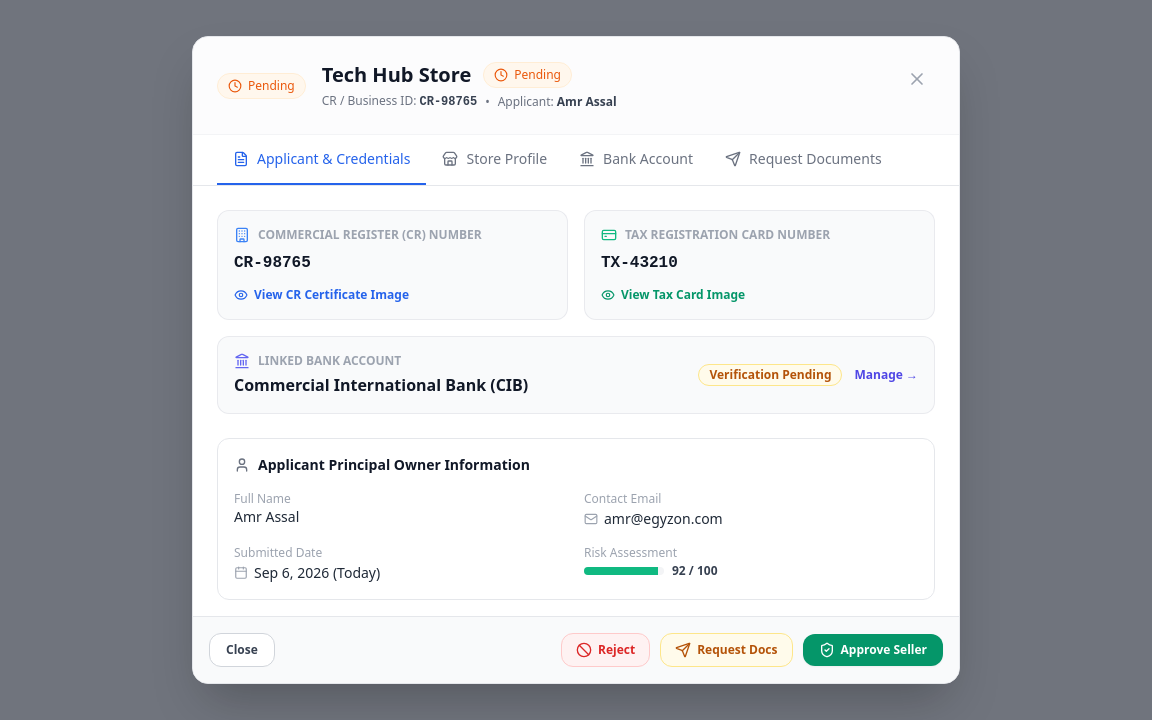
Test: SellerViewModel Component - Bank Account Integration › renders Bank Account tab and displays banking credentials
Check: the text "Linked Bank Account" is shown, box 234,352 -> 401,369
Check: the text "Commercial International Bank (CIB)" is shown, box 234,373 -> 528,397
// Switch to Bank Account tab
Click the button "Bank Account": (636,160) 563,135 -> 709,185
(page scrolled)
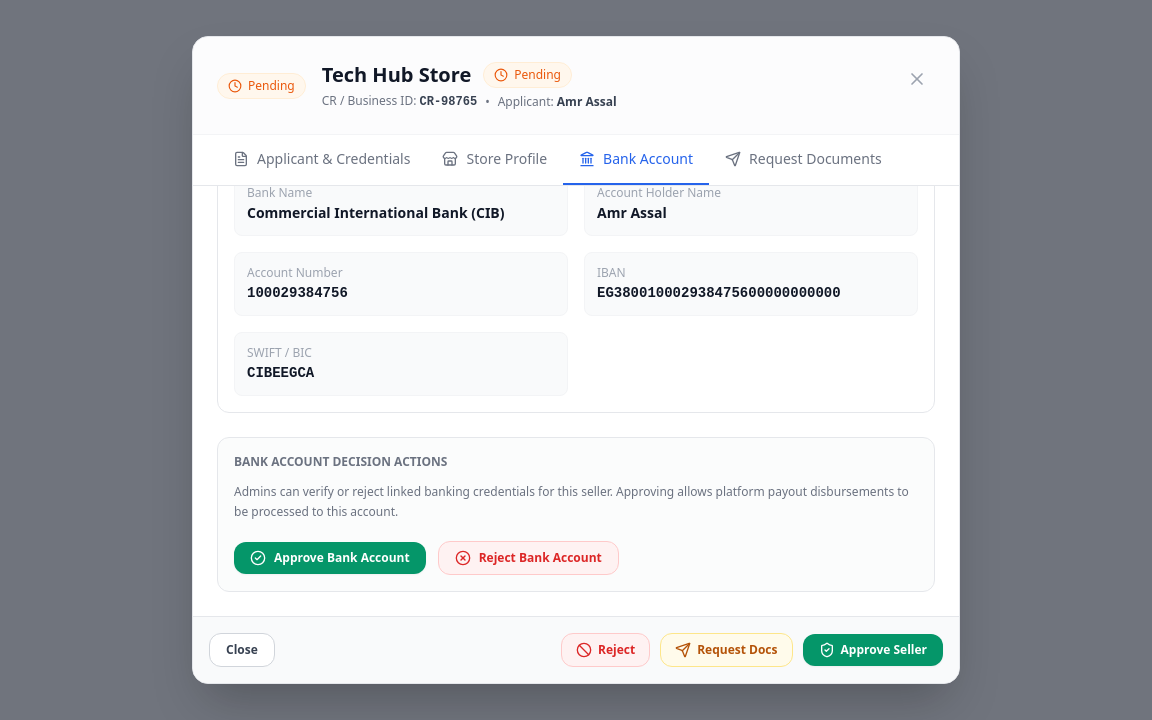
Check: the text "100029384756" is shown, box 247,285 -> 348,301
Check: the text "EG380010002938475600000000000" is shown, box 597,285 -> 841,301
Check: the text "CIBEEGCA" is shown, box 247,365 -> 314,381
